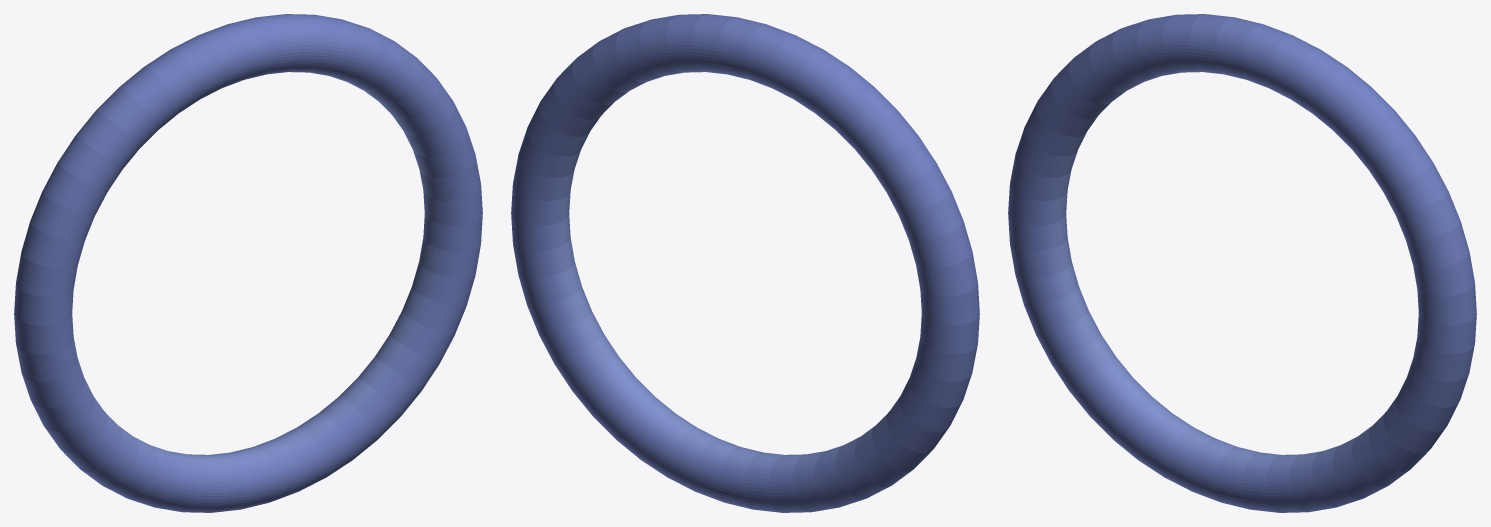
3 renders of one model, left to right at view 1: azimuth 30°, elevation 25°; view 2: azimuth 150°, elevation 25°; view 3: azimuth 330°, elevation 25°, orthographic.
Parts seen in each view (by area): view 1: world; view 2: world; view 3: world.
Part boxes in pixels (<box>): world: <box>14,14,482,512</box>; world: <box>511,14,979,512</box>; world: <box>1008,14,1476,512</box>.
Size of the model in its own units: 23.2 by 23.15 by 2.53.
